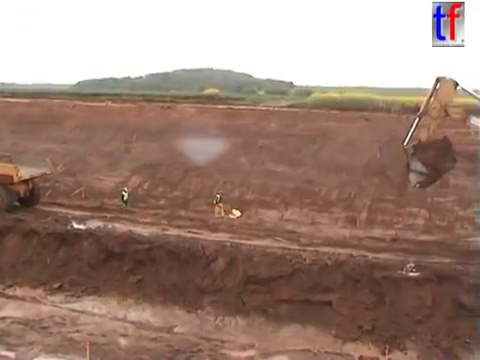excavator: (399, 74, 480, 192)
truck: (1, 150, 56, 215)
worker: (211, 189, 228, 219), (119, 185, 132, 212)
